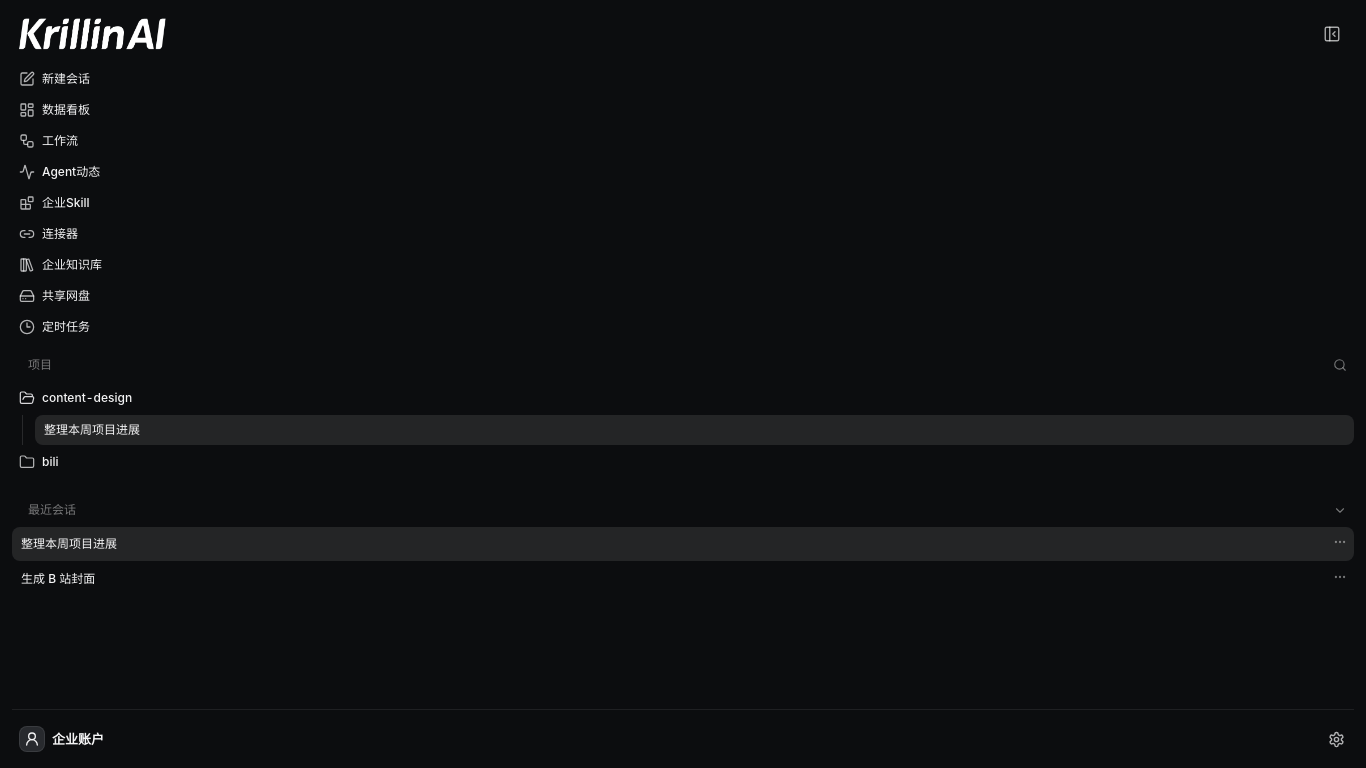
it: ClaweeSidebar › collapses and expands recent conversations without changing the selected conversation
The width and height of the screenshot is (1366, 768).
Click the button named "收起最近会话". click: (1340, 510)
box: [1326,496,1354,524]
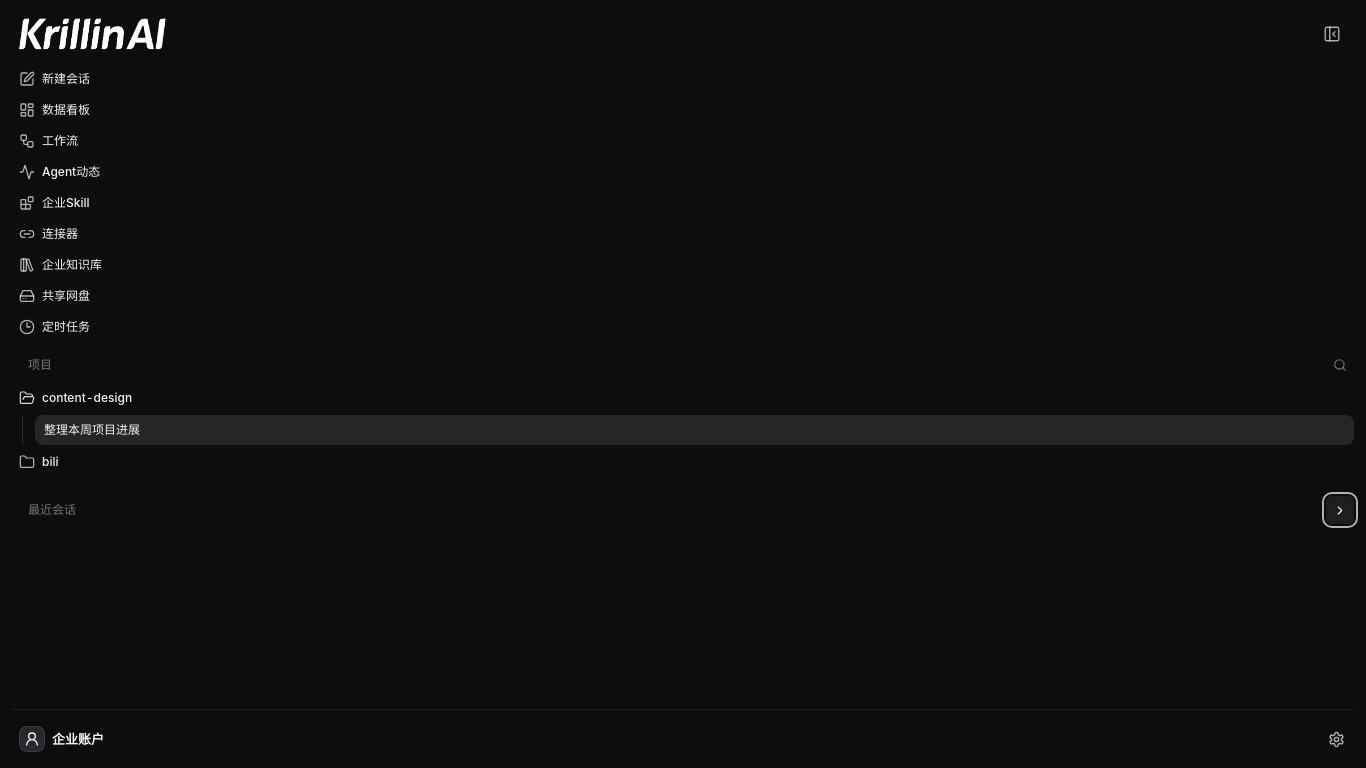
expect the button named "展开最近会话" is collapsed: met
Click the button named "展开最近会话". click: (1340, 510)
box: [1326,496,1354,524]
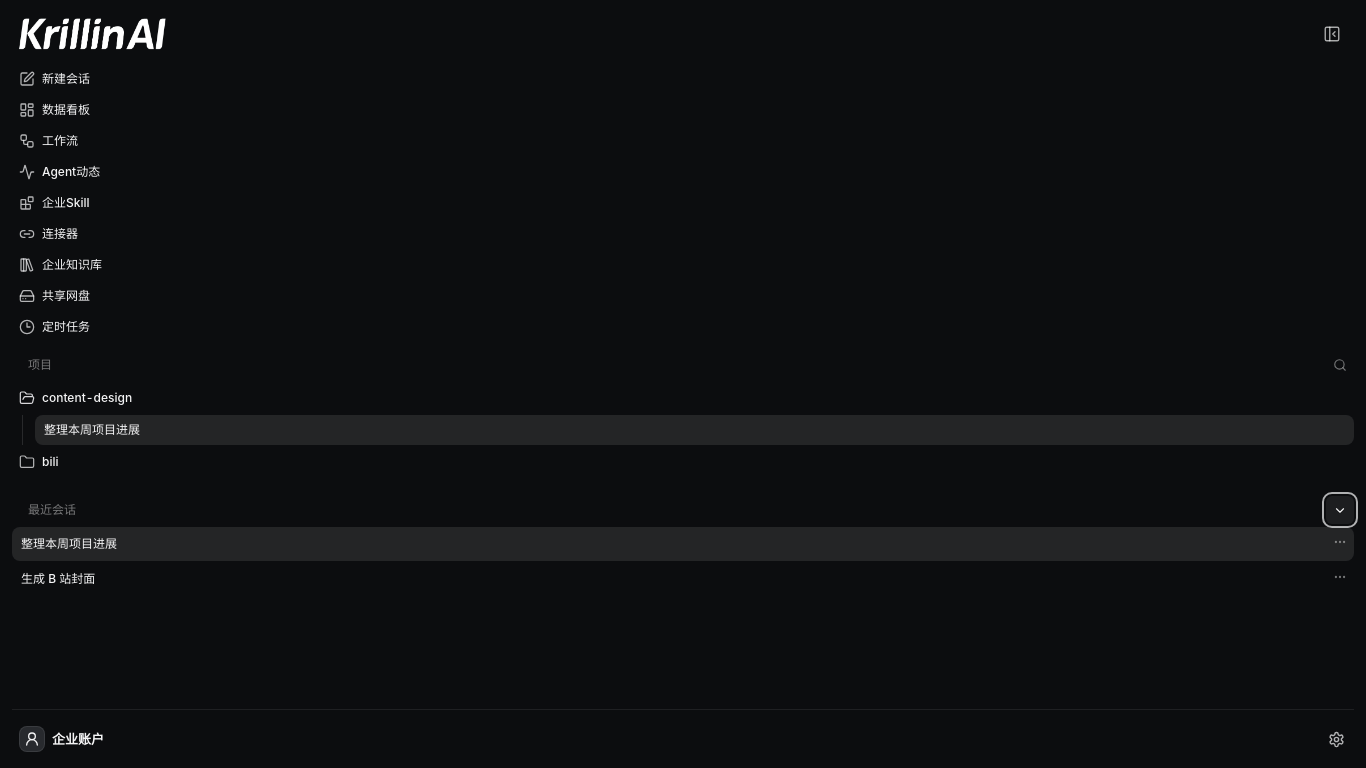
expect the button named "收起最近会话" is expanded: met, box [1326,496,1354,524]
